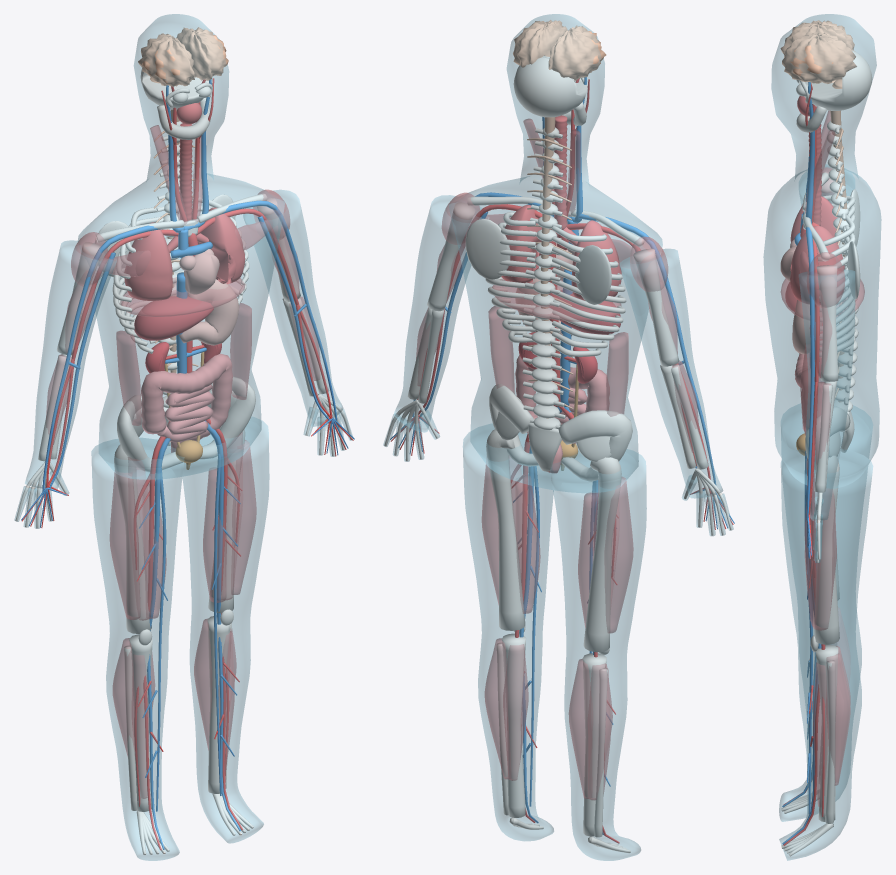
Rendered from cosmolookup_human_anatomy_3d.glb.
3 renders of one model, left to right at view 1: azimuth 30°, elevation 25°; view 2: azimuth 150°, elevation 25°; view 3: azimuth 270°, elevation 25°, orthographic. The views are drawn at different scales.
Parts seen in each view (by area): view 1: Human_Body_Structure_Outer_Shell, Muscular_Structures, Skull_RibCage_Spine_Skeleton, Major_Veins_Blue, Major_Arteries_Red, Lungs_and_Bronchial_Tree, Intestines_Small_and_Large_Colon, Brain_and_Spinal_Cord, Liver_Hepatic_Lobes, Stomach_Gastric_Curvature, Heart_Myocardium, Kidneys_Bilateral_Renal (+1 smaller); view 2: Human_Body_Structure_Outer_Shell, Skull_RibCage_Spine_Skeleton, Muscular_Structures, Major_Veins_Blue, Brain_and_Spinal_Cord, Major_Arteries_Red, Lungs_and_Bronchial_Tree, Intestines_Small_and_Large_Colon, Liver_Hepatic_Lobes, Kidneys_Bilateral_Renal; view 3: Human_Body_Structure_Outer_Shell, Skull_RibCage_Spine_Skeleton, Muscular_Structures, Brain_and_Spinal_Cord, Major_Veins_Blue, Major_Arteries_Red, Lungs_and_Bronchial_Tree, Intestines_Small_and_Large_Colon, Stomach_Gastric_Curvature, Heart_Myocardium.
Boxes of the visible parts, <box> form: Human_Body_Structure_Outer_Shell: <box>14,14,353,860</box>; Muscular_Structures: <box>46,125,320,798</box>; Skull_RibCage_Spine_Skeleton: <box>15,68,352,855</box>; Major_Veins_Blue: <box>21,79,354,849</box>; Major_Arteries_Red: <box>22,78,353,850</box>; Lungs_and_Bronchial_Tree: <box>124,103,245,300</box>; Intestines_Small_and_Large_Colon: <box>141,353,232,452</box>; Brain_and_Spinal_Cord: <box>138,27,228,372</box>; Liver_Hepatic_Lobes: <box>134,296,213,340</box>; Stomach_Gastric_Curvature: <box>179,279,239,345</box>; Heart_Myocardium: <box>179,249,219,294</box>; Kidneys_Bilateral_Renal: <box>145,342,221,373</box>; Human_Body_Structure_Outer_Shell: <box>383,14,733,860</box>; Skull_RibCage_Spine_Skeleton: <box>384,55,732,853</box>; Muscular_Structures: <box>416,118,699,800</box>; Major_Veins_Blue: <box>390,77,734,838</box>; Brain_and_Spinal_Cord: <box>513,20,606,418</box>; Major_Arteries_Red: <box>390,78,733,843</box>; Lungs_and_Bronchial_Tree: <box>501,115,621,300</box>; Intestines_Small_and_Large_Colon: <box>515,355,609,473</box>; Liver_Hepatic_Lobes: <box>549,290,620,334</box>; Kidneys_Bilateral_Renal: <box>518,332,597,383</box>; Human_Body_Structure_Outer_Shell: <box>763,14,881,860</box>; Skull_RibCage_Spine_Skeleton: <box>781,50,872,856</box>; Muscular_Structures: <box>780,110,864,807</box>; Brain_and_Spinal_Cord: <box>780,20,856,401</box>; Major_Veins_Blue: <box>782,82,821,844</box>; Major_Arteries_Red: <box>783,83,825,845</box>; Lungs_and_Bronchial_Tree: <box>790,96,844,304</box>; Intestines_Small_and_Large_Colon: <box>794,353,823,435</box>; Stomach_Gastric_Curvature: <box>792,300,821,354</box>; Heart_Myocardium: <box>780,239,796,281</box>.
Size of the model in its own units: 0.7632 by 1.74 by 0.2293.
